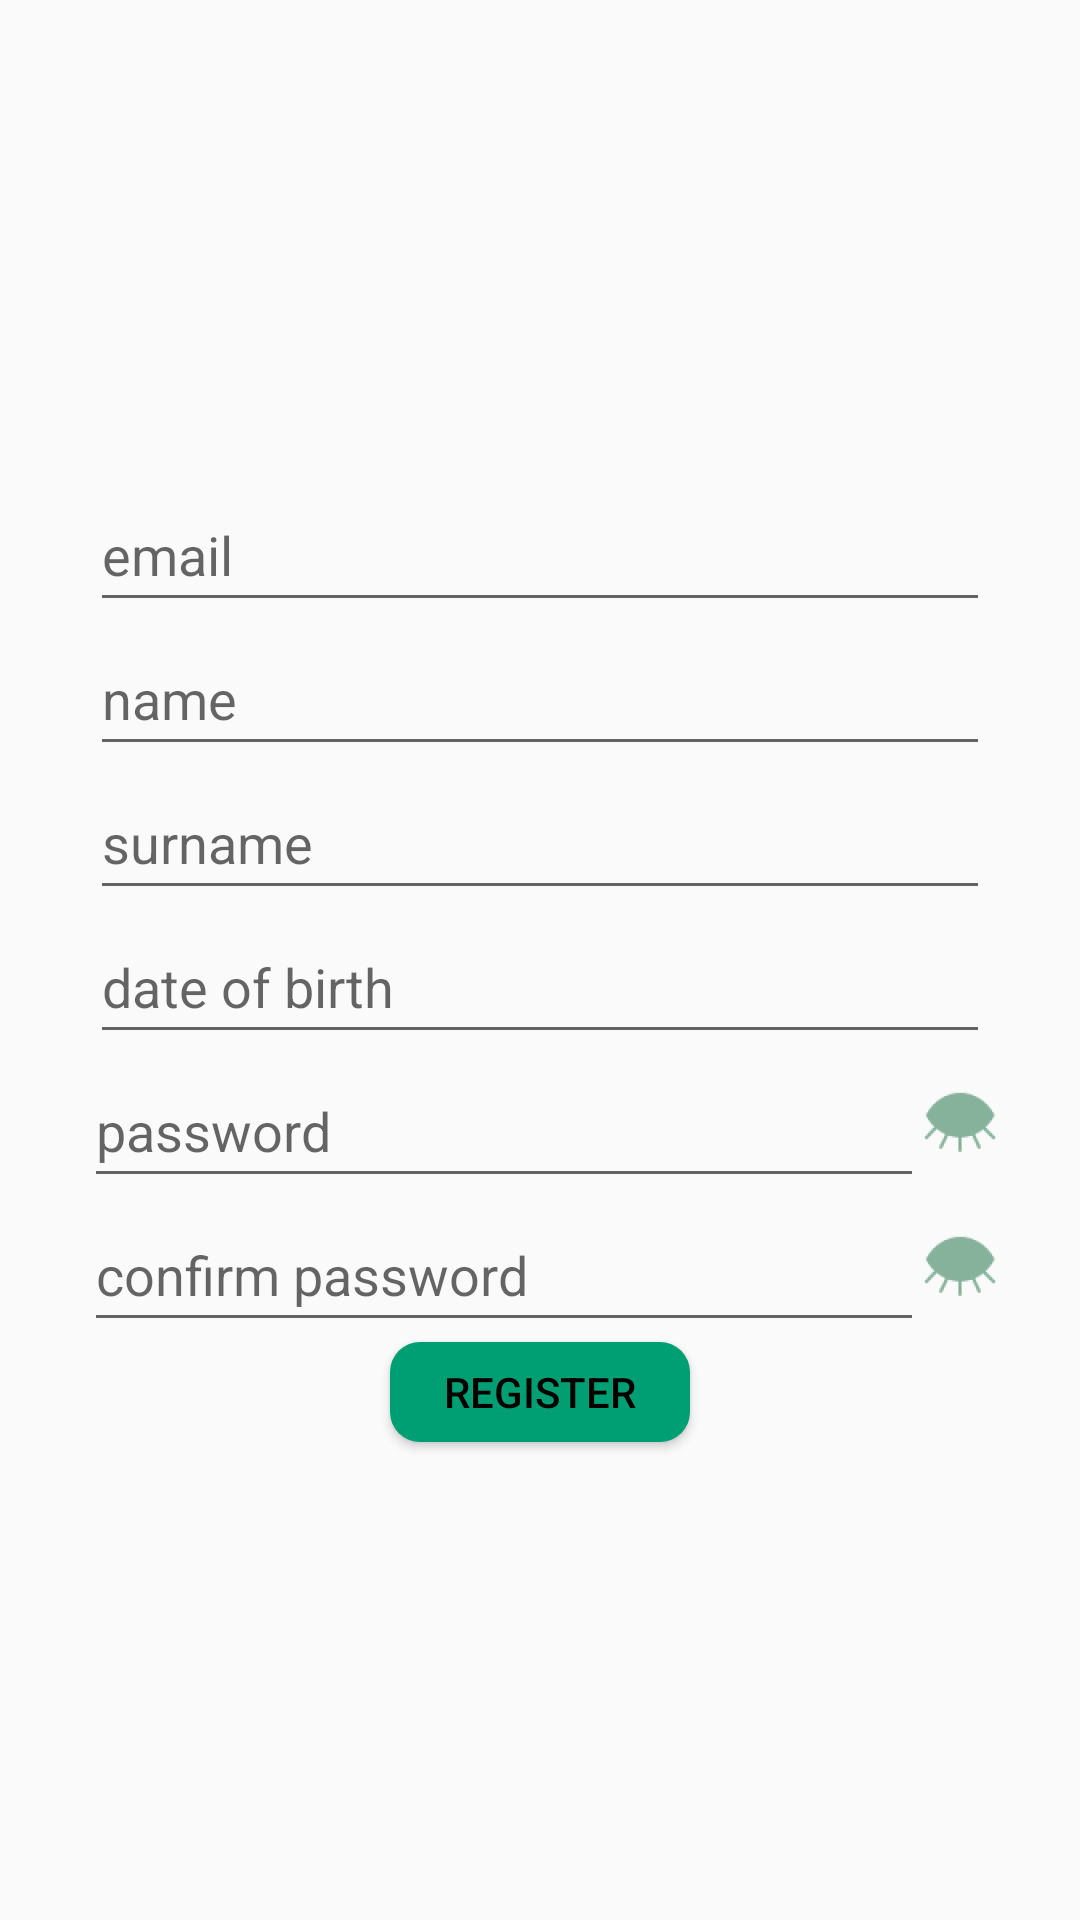

Icons on this 1080w x 1920h Android screen, each with its box as (x1, y1, x2, y2):
closed eye: (925, 1093, 995, 1152), (925, 1237, 995, 1296)
